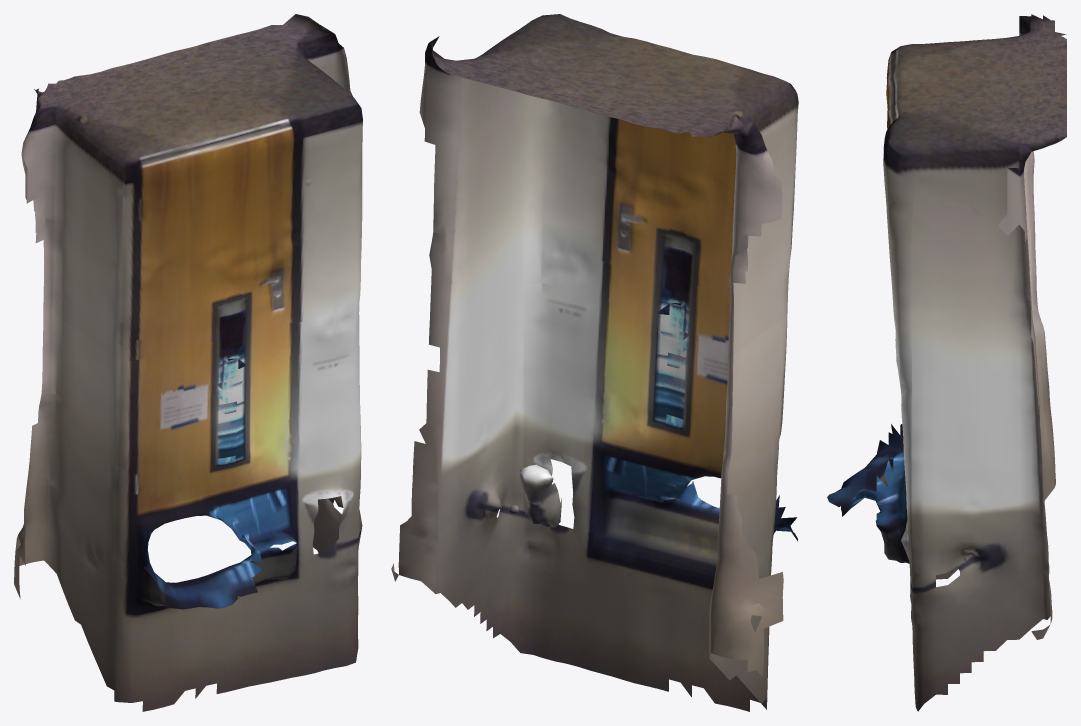
Rendered from Hall1R.obj.
3 views of the same model, side by side, from view 1: azimuth 30°, elevation 25°; view 2: azimuth 150°, elevation 25°; view 3: azimuth 270°, elevation 25° (orthographic). The views are drawn at different scales.
Bounding box in the file's own units: 2.1 × 3.51 × 1.31.
Materials: 1 (1 with a texture image).
